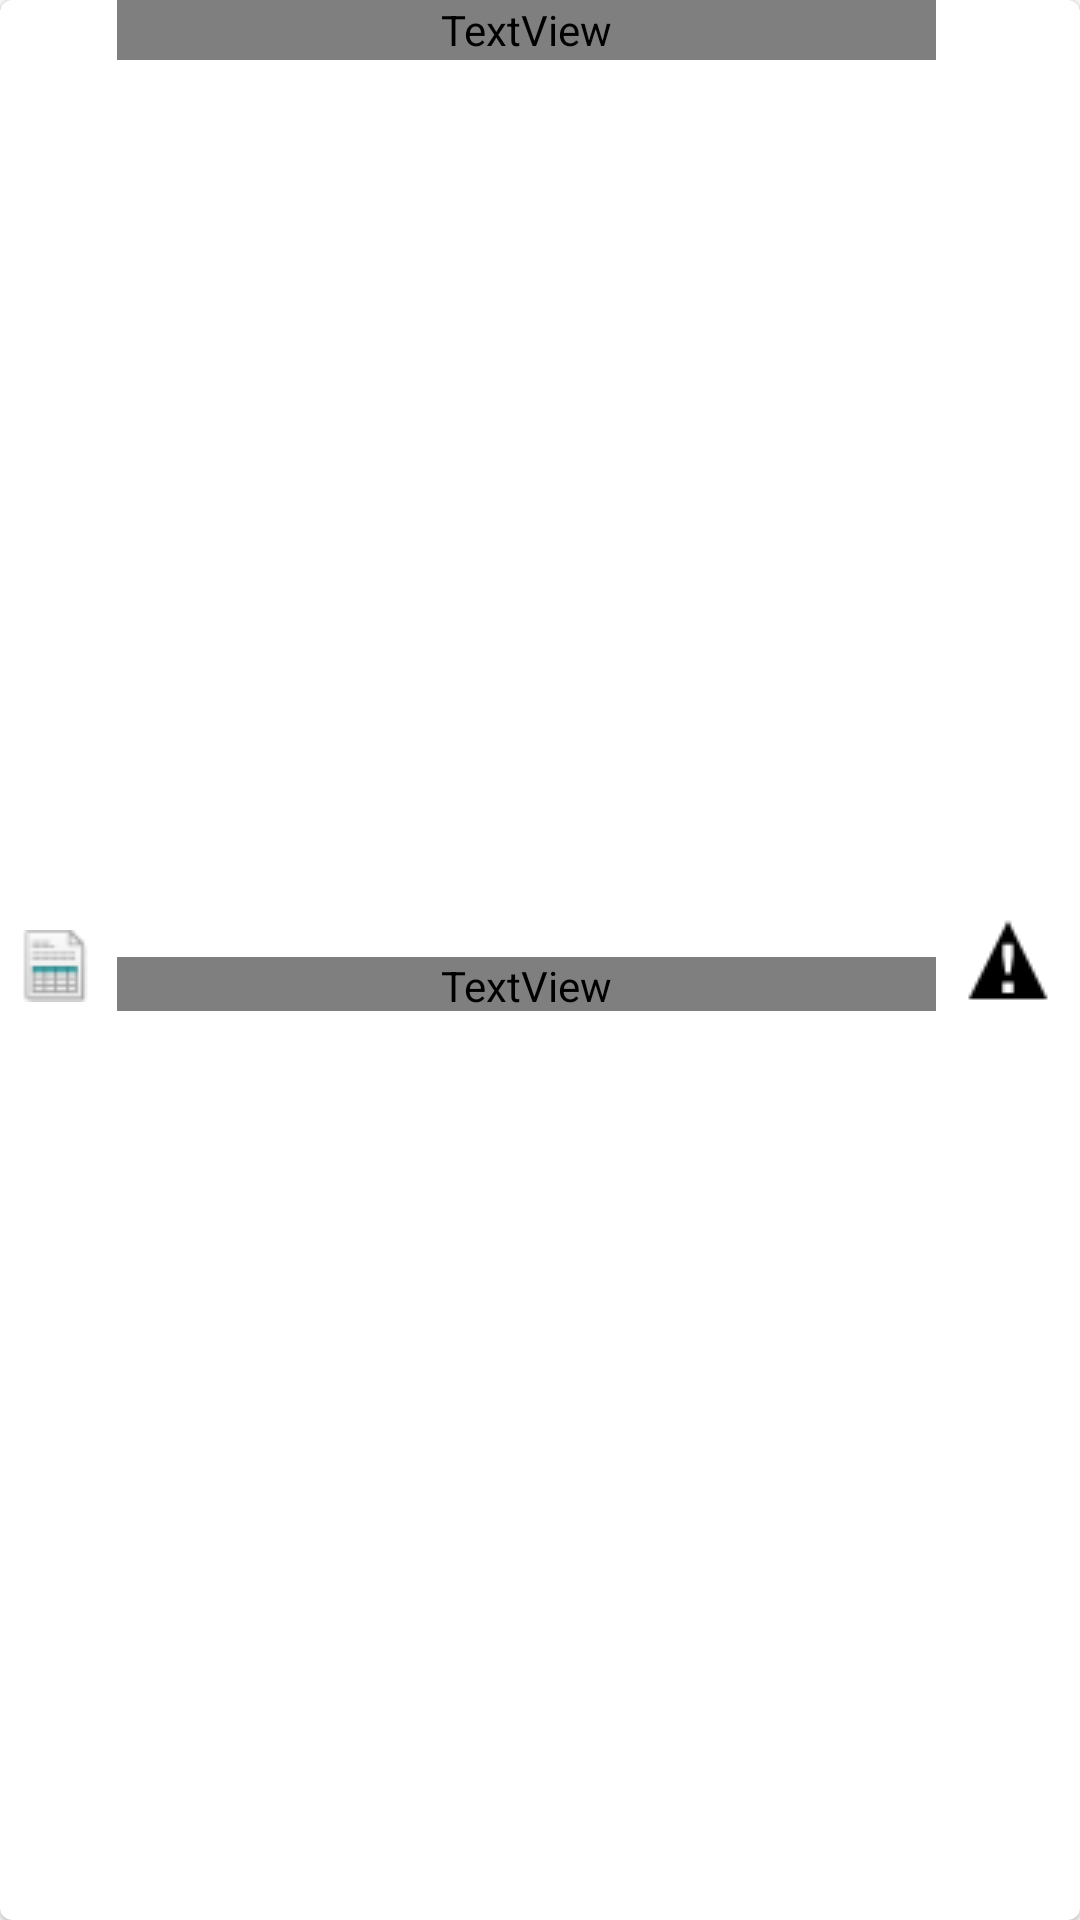

Named icons in this screenshot (1080px×1920px) and their bounding boxes, (x1, y1, x2, y2):
alert: (968, 921, 1048, 1000)
invoice: (24, 930, 85, 1002)
